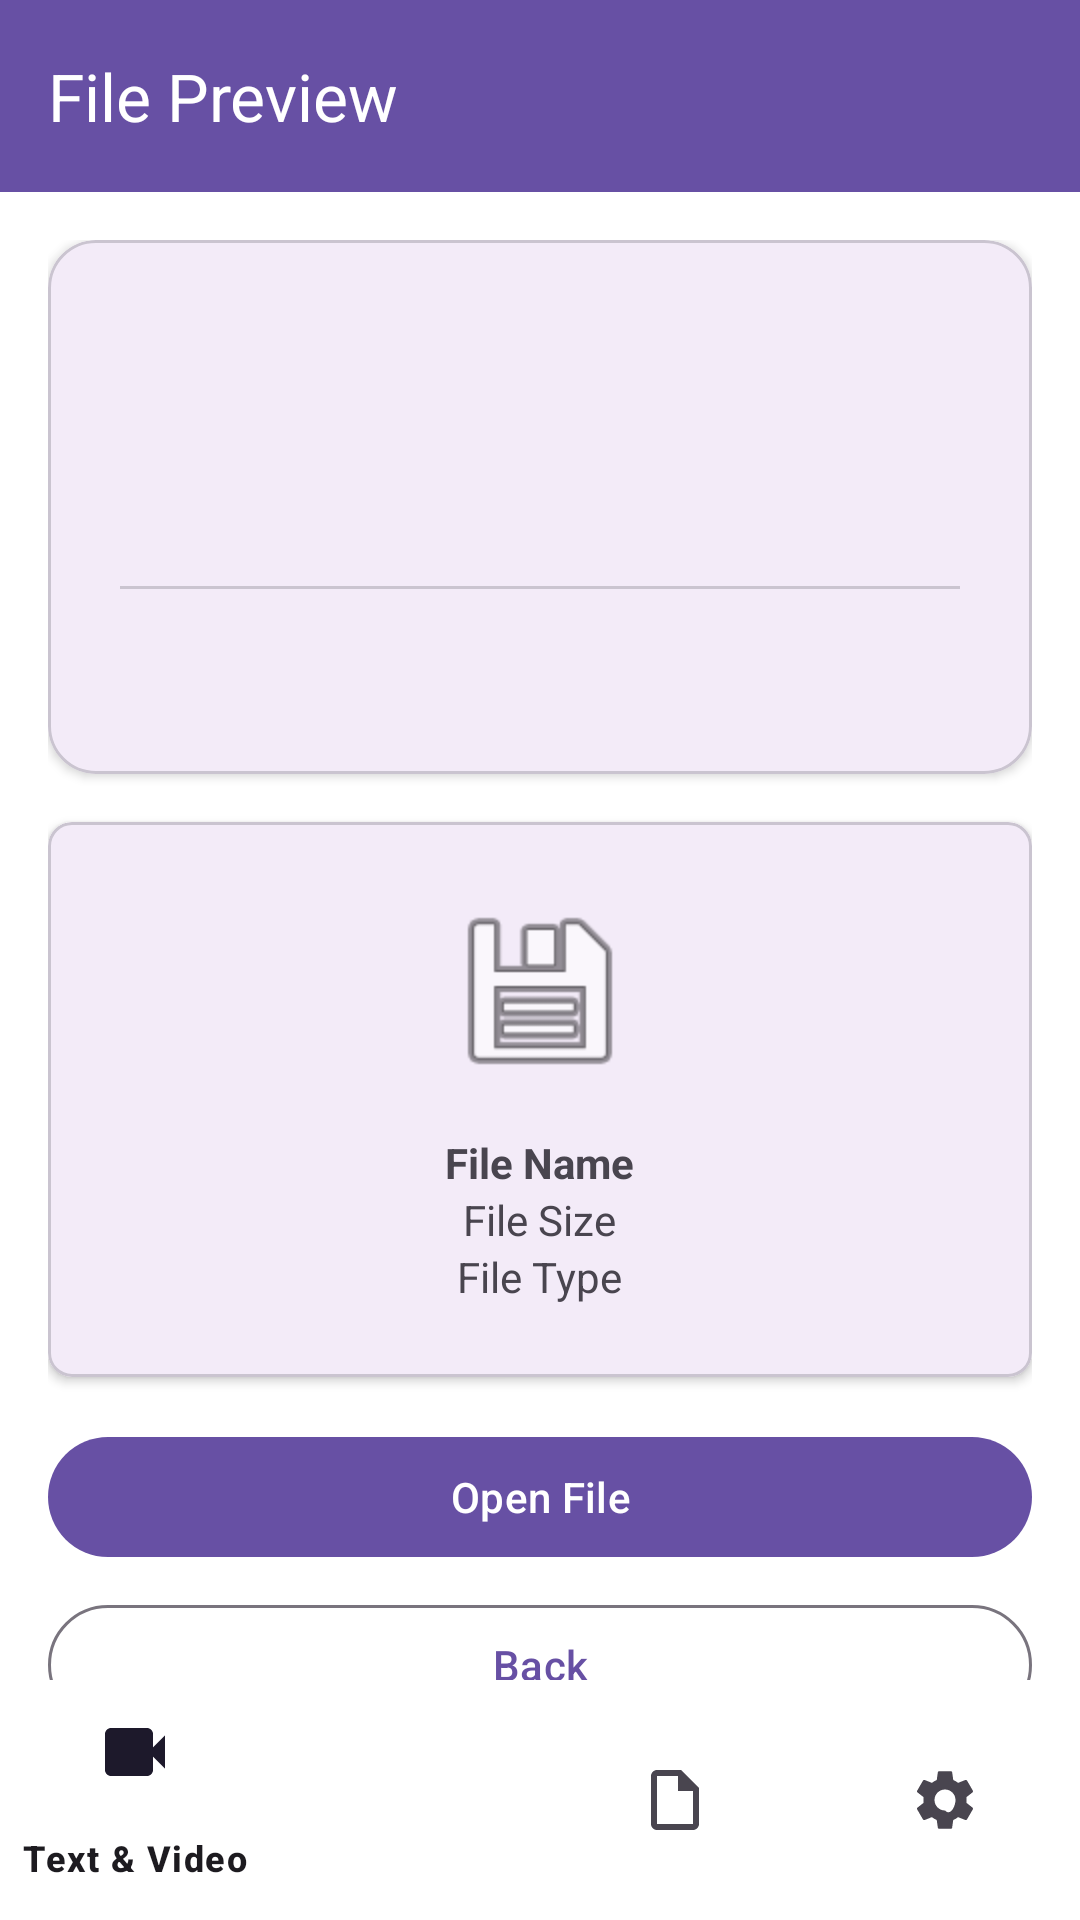

Named icons in this screenshot (1080w x 1920h) and their centers, (x,y):
save: (540,991)
